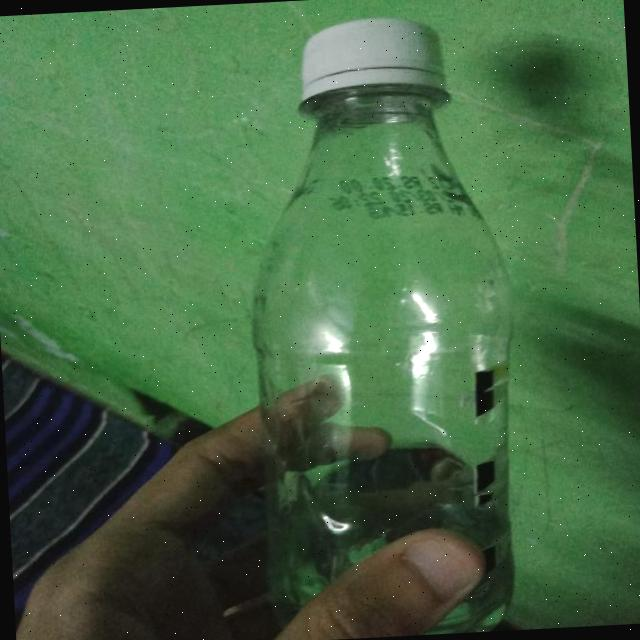bottle: (236, 9, 533, 640)
cap: (294, 11, 452, 114)
